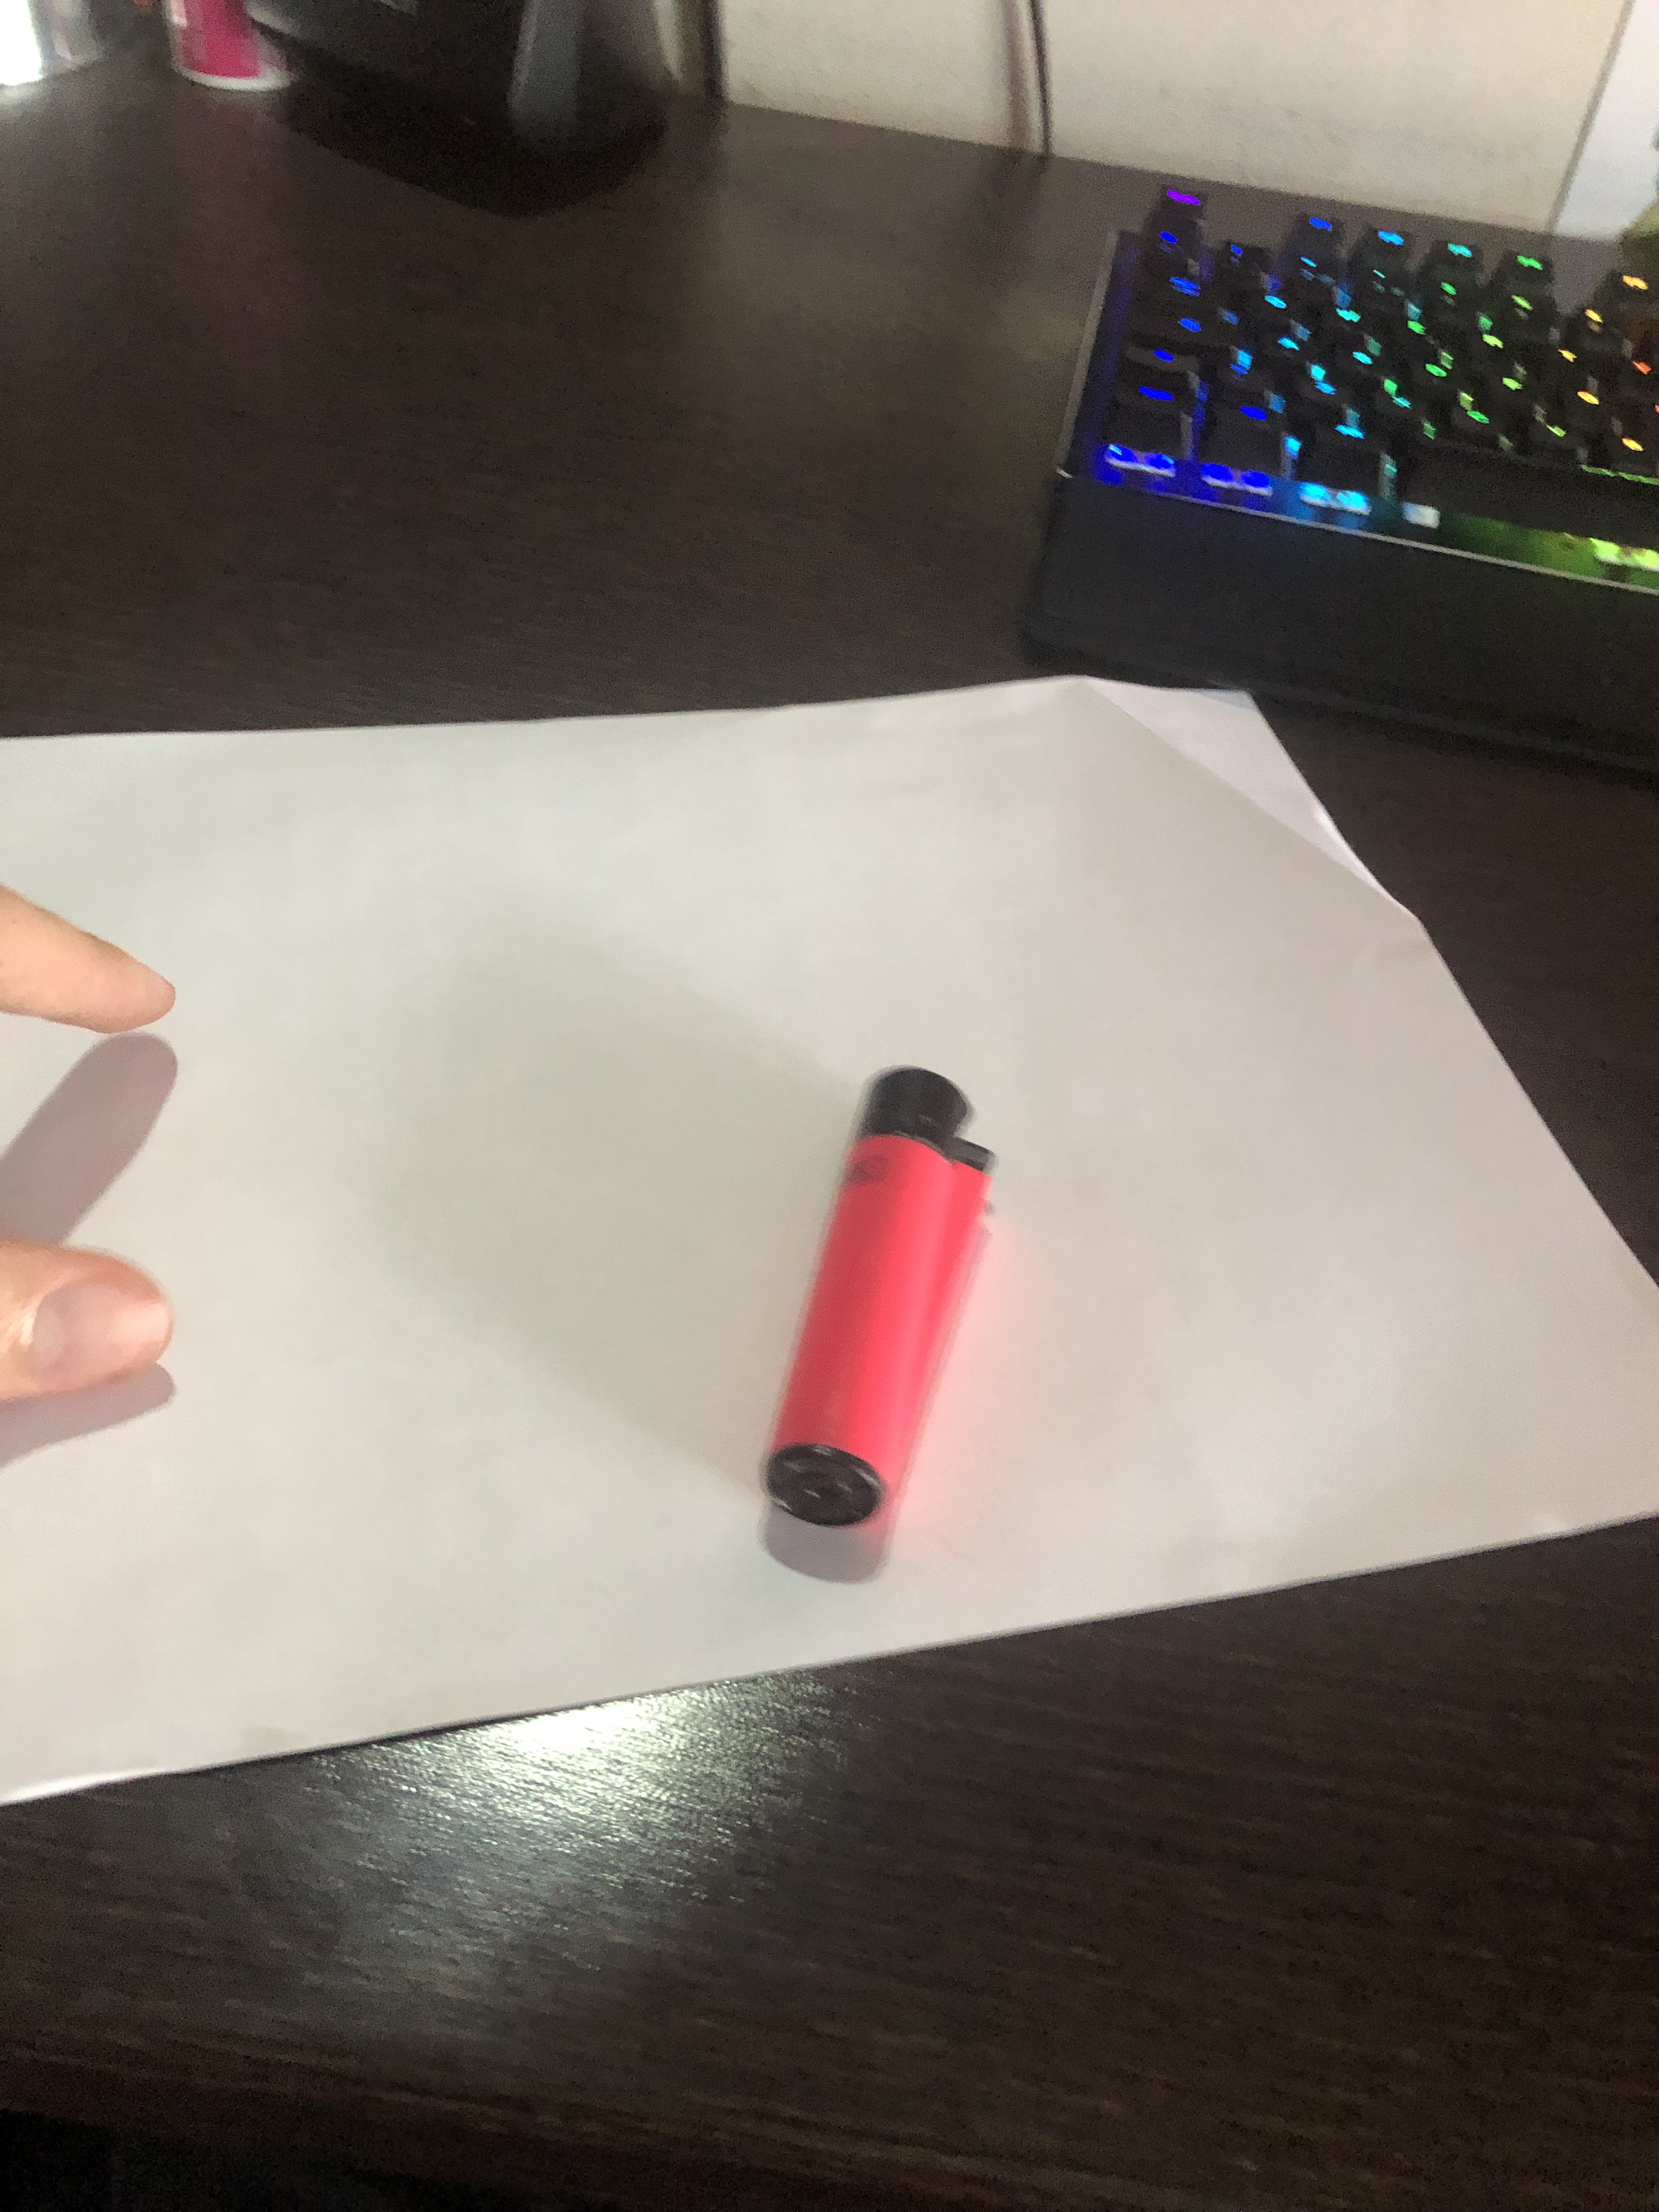Mechero: (744, 1061, 1006, 1555)
